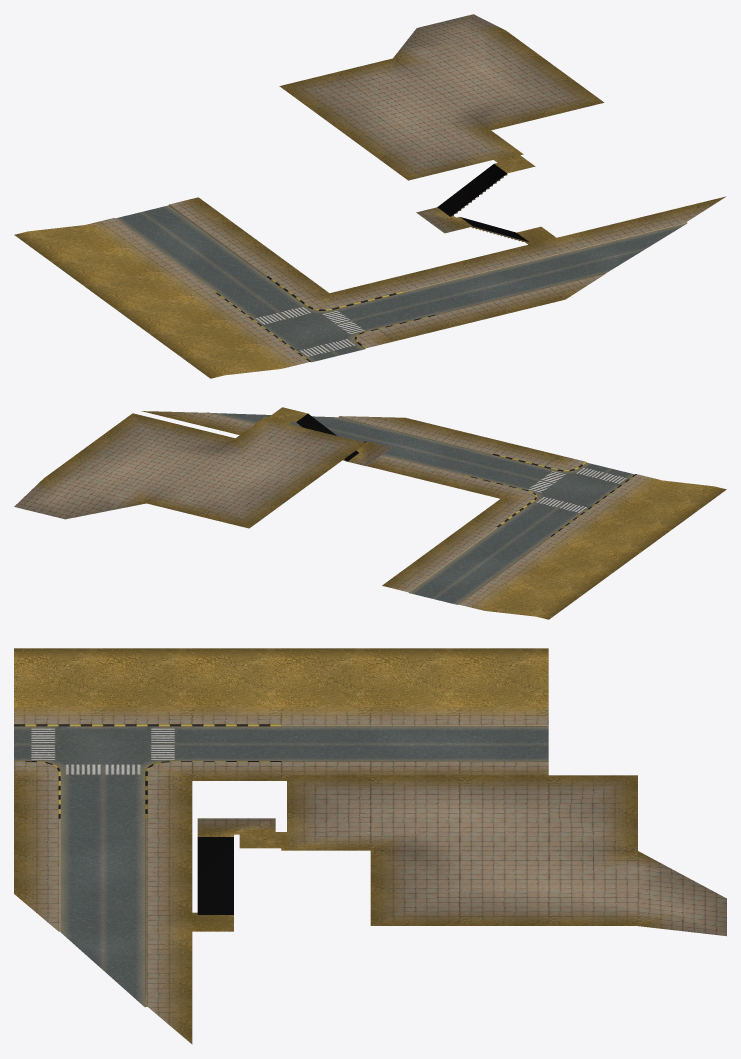
File: M11Z1_Floor_Zone6.glb
The picture shows the model from 3 angles, top to bottom: view 1: azimuth 30°, elevation 25°; view 2: azimuth 150°, elevation 25°; view 3: azimuth 270°, elevation 25°; orthographic projection. The views are drawn at different scales.
Visible parts, largest first — view 1: M11Z1_FLOOR_ZONE6038, M11Z1_FLOOR_ZONE6051, M11Z1_FLOOR_ZONE6011, M11Z1_FLOOR_ZONE6023, M11Z1_FLOOR_ZONE6008, M11Z1_FLOOR_ZONE6018, M11Z1_FLOOR_ZONE6040, M11Z1_FLOOR_ZONE6, M11Z1_FLOOR_ZONE6025, M11Z1_FLOOR_ZONE6032, M11Z1_FLOOR_ZONE6014, M11Z1_FLOOR_ZONE6015 (+35 smaller); view 2: M11Z1_FLOOR_ZONE6053, M11Z1_FLOOR_ZONE6038, M11Z1_FLOOR_ZONE6051, M11Z1_FLOOR_ZONE6011, M11Z1_FLOOR_ZONE6, M11Z1_FLOOR_ZONE6032, M11Z1_FLOOR_ZONE6008, M11Z1_FLOOR_ZONE6018, M11Z1_FLOOR_ZONE6025, M11Z1_FLOOR_ZONE6040, M11Z1_FLOOR_ZONE6002, M11Z1_FLOOR_ZONE6004 (+40 smaller); view 3: M11Z1_FLOOR_ZONE6008, M11Z1_FLOOR_ZONE6018, M11Z1_FLOOR_ZONE6025, M11Z1_FLOOR_ZONE6032, M11Z1_FLOOR_ZONE6040, M11Z1_FLOOR_ZONE6, M11Z1_FLOOR_ZONE6038, M11Z1_FLOOR_ZONE6051, M11Z1_FLOOR_ZONE6011, M11Z1_FLOOR_ZONE6023, M11Z1_FLOOR_ZONE6053, M11Z1_FLOOR_ZONE6002 (+40 smaller).
Boxes of the visible parts, x1,y1,x2,y2 form: M11Z1_FLOOR_ZONE6038: (446, 92, 547, 136); M11Z1_FLOOR_ZONE6051: (438, 31, 538, 68); M11Z1_FLOOR_ZONE6011: (301, 279, 418, 324); M11Z1_FLOOR_ZONE6023: (437, 155, 553, 244); M11Z1_FLOOR_ZONE6008: (145, 321, 248, 354); M11Z1_FLOOR_ZONE6018: (112, 297, 215, 330); M11Z1_FLOOR_ZONE6040: (14, 225, 117, 258); M11Z1_FLOOR_ZONE6: (178, 345, 280, 378); M11Z1_FLOOR_ZONE6025: (80, 273, 182, 306); M11Z1_FLOOR_ZONE6032: (47, 249, 149, 282); M11Z1_FLOOR_ZONE6014: (472, 244, 588, 276); M11Z1_FLOOR_ZONE6015: (529, 224, 645, 262); M11Z1_FLOOR_ZONE6053: (14, 484, 112, 519); M11Z1_FLOOR_ZONE6038: (154, 426, 260, 459); M11Z1_FLOOR_ZONE6051: (44, 456, 134, 490); M11Z1_FLOOR_ZONE6011: (449, 465, 555, 504); M11Z1_FLOOR_ZONE6: (633, 480, 726, 510); M11Z1_FLOOR_ZONE6032: (514, 567, 607, 597); M11Z1_FLOOR_ZONE6008: (604, 502, 696, 532); M11Z1_FLOOR_ZONE6018: (574, 524, 666, 554); M11Z1_FLOOR_ZONE6025: (544, 545, 637, 576); M11Z1_FLOOR_ZONE6040: (485, 589, 577, 619); M11Z1_FLOOR_ZONE6002: (530, 461, 619, 490); M11Z1_FLOOR_ZONE6004: (441, 430, 518, 471); M11Z1_FLOOR_ZONE6008: (103, 648, 192, 705); M11Z1_FLOOR_ZONE6018: (192, 648, 281, 705); M11Z1_FLOOR_ZONE6025: (281, 648, 370, 705); M11Z1_FLOOR_ZONE6032: (370, 648, 459, 705); M11Z1_FLOOR_ZONE6040: (459, 648, 548, 705); M11Z1_FLOOR_ZONE6: (14, 648, 102, 705); M11Z1_FLOOR_ZONE6038: (370, 832, 459, 888); M11Z1_FLOOR_ZONE6051: (548, 870, 637, 925); M11Z1_FLOOR_ZONE6011: (103, 762, 192, 819); M11Z1_FLOOR_ZONE6023: (192, 829, 281, 931); M11Z1_FLOOR_ZONE6053: (638, 870, 726, 935); M11Z1_FLOOR_ZONE6002: (14, 726, 102, 781).
Bounding box in the file's own units: 82 × 8.2 × 64.
Materials: 11 (10 with a texture image).
